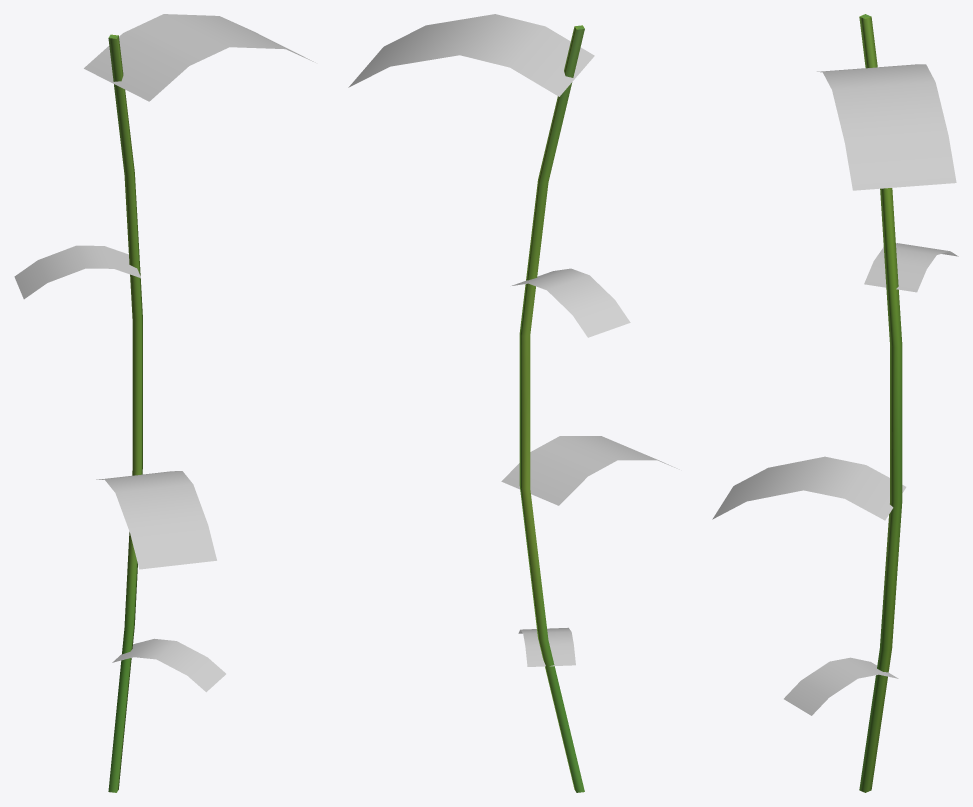
The model's file is SM_groundplant_02.fbx.
The picture shows the model from 3 angles, left to right: view 1: azimuth 30°, elevation 25°; view 2: azimuth 150°, elevation 25°; view 3: azimuth 270°, elevation 25°; orthographic projection. The views are drawn at different scales.
Visible parts, largest first — view 1: SM_groundplant_02; view 2: SM_groundplant_02; view 3: SM_groundplant_02.
Boxes of the visible parts, left/top/right/bottom form: SM_groundplant_02: left=14, top=14, right=315, bottom=792; SM_groundplant_02: left=348, top=14, right=679, bottom=792; SM_groundplant_02: left=712, top=14, right=958, bottom=792.
Size of the model in its own units: 29.11 by 77.69 by 22.47.
